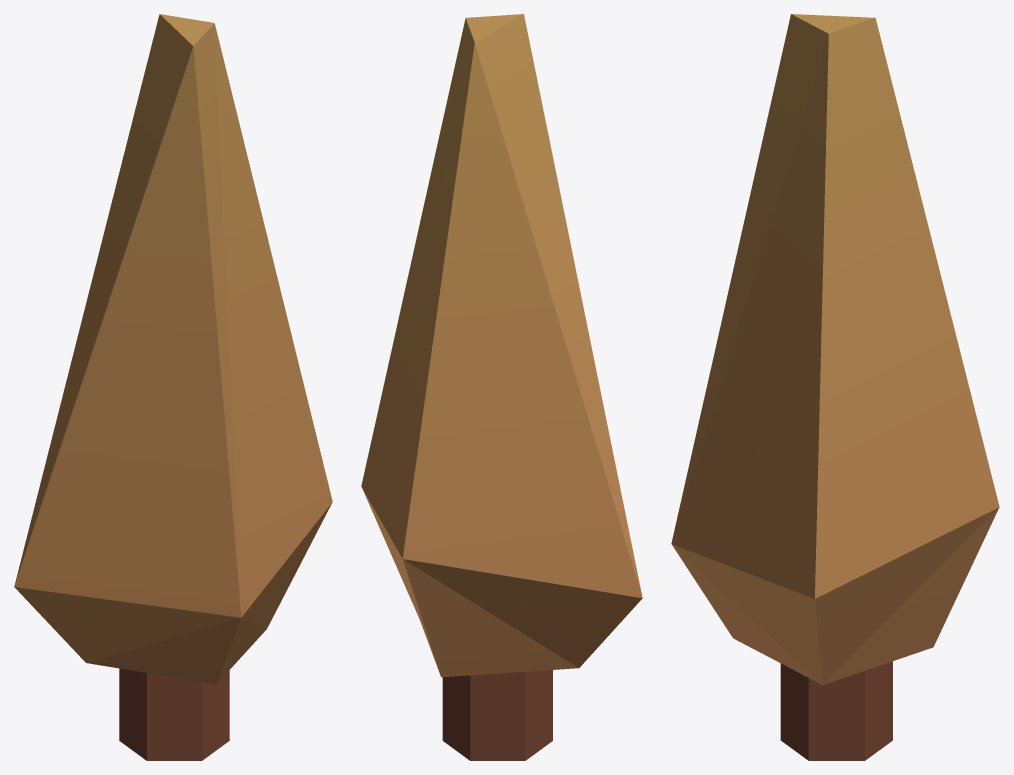
The model's file is Bush_10_gradient_yellow_vc.fbx.
The picture shows the model from 3 angles, left to right: view 1: azimuth 30°, elevation 25°; view 2: azimuth 150°, elevation 25°; view 3: azimuth 270°, elevation 25°; orthographic projection.
Parts seen in each view (by area): view 1: Bush_10_gradient_yellow_vc; view 2: Bush_10_gradient_yellow_vc; view 3: Bush_10_gradient_yellow_vc.
Boxes of the visible parts, <box> form: Bush_10_gradient_yellow_vc: <box>14,14,332,760</box>; Bush_10_gradient_yellow_vc: <box>361,14,642,760</box>; Bush_10_gradient_yellow_vc: <box>671,14,999,760</box>.
Size of the model in its own units: 38.13 by 86.43 by 35.48.
